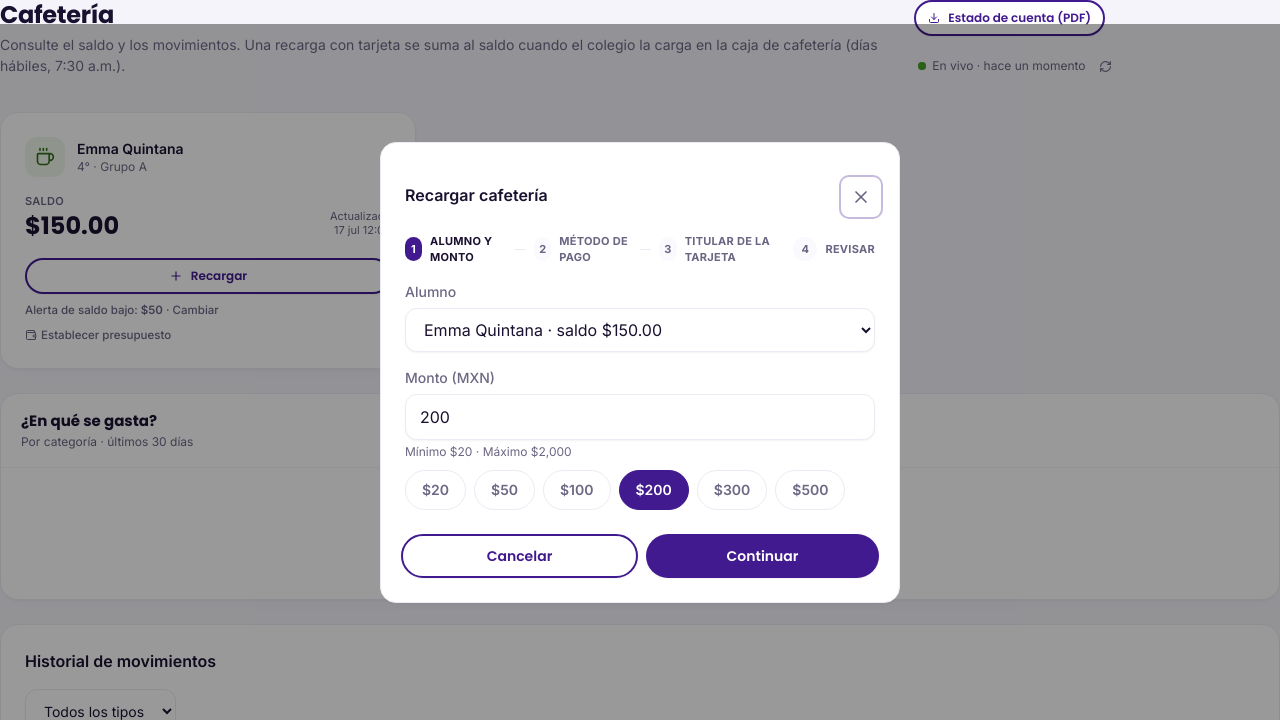
Test: CafeteriaPage during Banorte certification › warns the tester that the charge is real
The image size is (1280, 720).
Expected: the dialog "Recargar cafetería" is shown, [380,142,900,602]
Click the button "Continuar" at (762, 556), box [646,534,879,578]
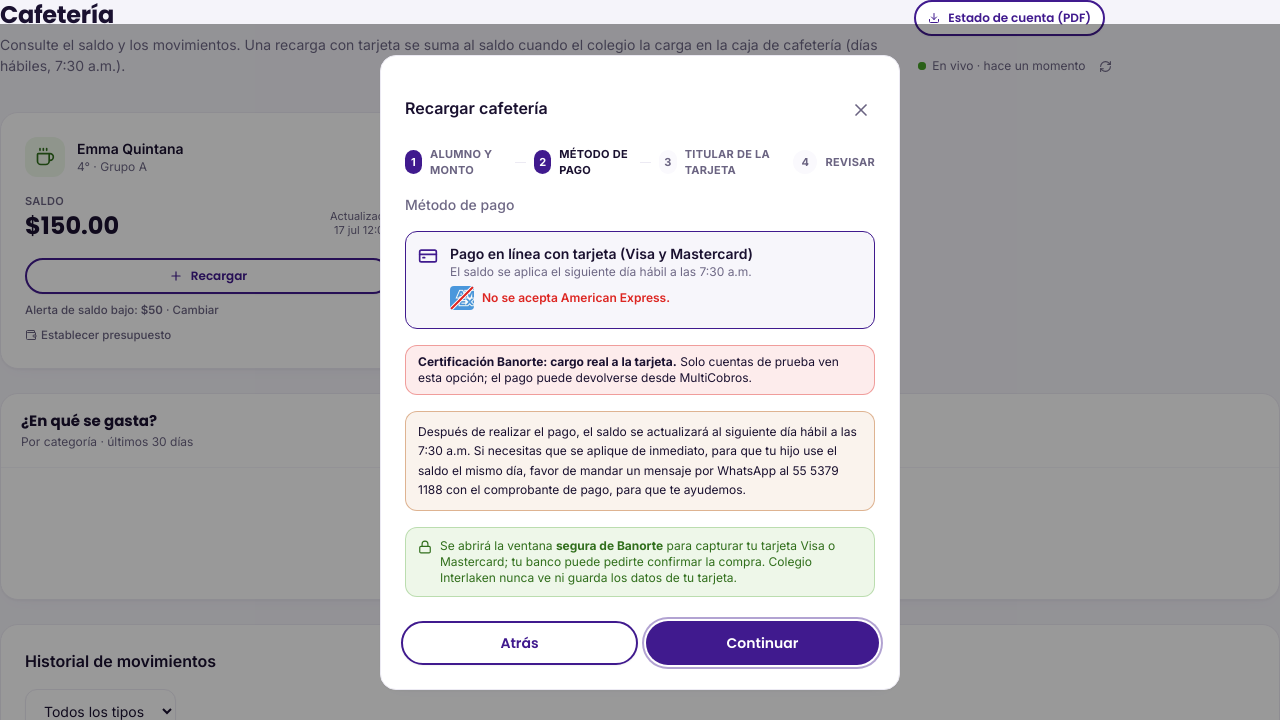
Result: the text "Certificación Banorte: cargo real a la tarjeta." is shown at [418,354,677,368]
